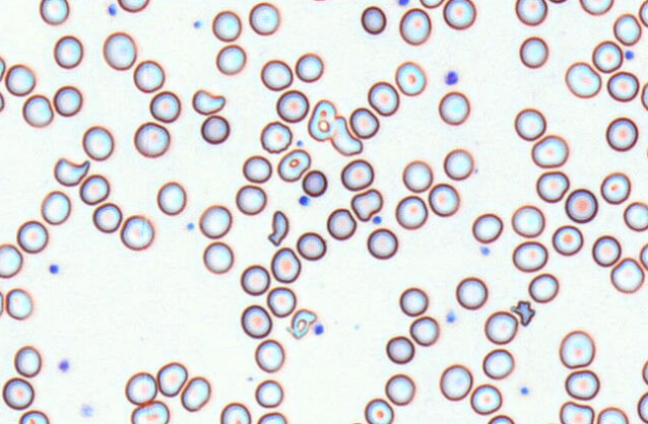PLT: (445, 68, 462, 86), (56, 358, 71, 373), (107, 1, 119, 18), (298, 195, 313, 208), (444, 309, 456, 325), (48, 262, 61, 275), (313, 323, 325, 337), (371, 213, 383, 225), (520, 385, 531, 396), (397, 0, 410, 9), (625, 50, 636, 60), (479, 247, 490, 256)
RBC: (558, 329, 595, 368), (564, 61, 601, 98), (102, 31, 136, 70), (133, 121, 169, 157), (531, 134, 568, 168), (610, 257, 644, 293), (120, 214, 154, 250), (439, 363, 472, 400), (399, 7, 431, 45), (564, 188, 598, 223), (198, 204, 232, 238), (605, 116, 638, 151), (512, 240, 548, 272), (270, 246, 301, 283), (484, 310, 517, 344), (124, 371, 157, 405), (275, 89, 309, 122), (340, 158, 374, 191), (277, 148, 310, 182), (511, 204, 545, 237), (367, 81, 399, 116), (438, 90, 470, 125), (156, 361, 187, 397), (395, 60, 426, 96), (180, 375, 210, 412), (16, 219, 48, 253), (395, 195, 427, 229), (240, 304, 272, 338), (535, 170, 569, 202), (248, 1, 280, 35), (564, 369, 599, 400), (82, 125, 113, 160), (260, 120, 292, 153), (455, 276, 487, 309), (591, 40, 623, 73), (514, 107, 546, 140), (428, 182, 459, 216), (2, 377, 34, 409), (470, 383, 502, 415), (366, 227, 398, 259), (202, 241, 233, 274), (22, 94, 53, 127), (133, 59, 164, 92), (260, 59, 293, 90), (600, 171, 631, 204), (606, 70, 639, 101), (156, 181, 186, 215), (40, 190, 70, 224), (254, 338, 284, 372), (53, 34, 83, 68), (149, 90, 180, 122), (482, 348, 514, 379), (551, 224, 583, 255), (384, 373, 415, 405), (471, 212, 503, 243), (215, 43, 246, 75), (443, 148, 474, 180), (326, 207, 356, 240), (5, 63, 35, 96), (402, 159, 432, 192), (442, 0, 476, 29), (235, 184, 266, 215), (79, 173, 109, 205), (349, 106, 379, 138), (211, 9, 241, 41), (266, 286, 296, 317), (92, 202, 122, 233), (528, 272, 558, 303), (409, 315, 439, 346), (240, 264, 270, 295), (592, 234, 621, 266), (519, 36, 548, 68), (53, 85, 82, 116), (130, 400, 169, 423), (613, 13, 641, 45), (242, 154, 272, 183), (296, 231, 326, 260), (200, 114, 229, 144), (294, 52, 323, 82), (5, 287, 32, 319), (14, 345, 41, 377), (254, 379, 283, 408), (399, 287, 428, 316), (385, 335, 414, 364), (515, 0, 547, 25), (0, 243, 22, 278), (364, 397, 393, 423), (360, 5, 386, 34), (301, 169, 327, 197), (623, 201, 647, 231), (39, 0, 69, 24), (220, 402, 251, 423), (596, 406, 628, 423), (579, 0, 613, 15), (18, 410, 49, 423), (117, 0, 149, 12), (637, 391, 648, 423), (257, 411, 286, 423), (638, 0, 648, 27), (639, 242, 648, 270), (487, 414, 514, 423), (641, 81, 648, 110), (419, 0, 443, 8), (641, 358, 648, 385), (0, 56, 5, 81), (0, 290, 4, 317), (0, 91, 5, 112), (548, 0, 568, 4), (645, 141, 648, 162), (306, 0, 332, 2)
Schistocyte: (326, 116, 364, 156), (308, 98, 334, 140), (351, 188, 383, 222), (54, 158, 90, 186), (289, 309, 318, 339), (192, 89, 226, 114), (560, 401, 595, 424), (267, 211, 288, 245), (508, 301, 534, 325)
